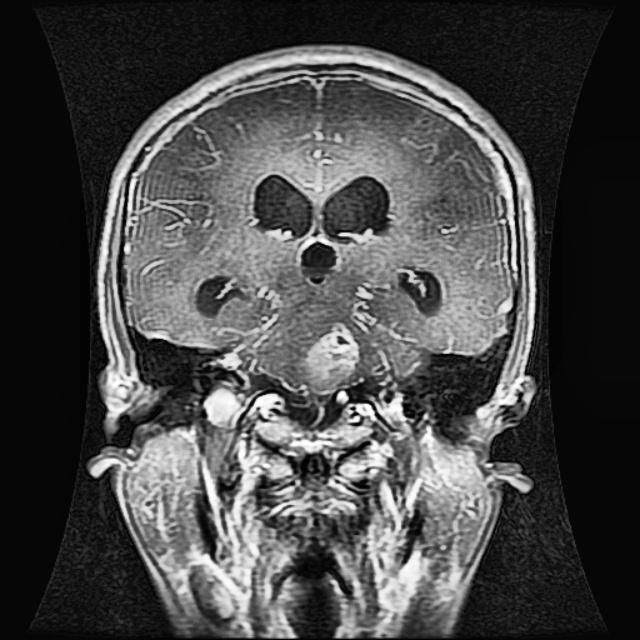Glioma: (304, 320, 357, 393)
